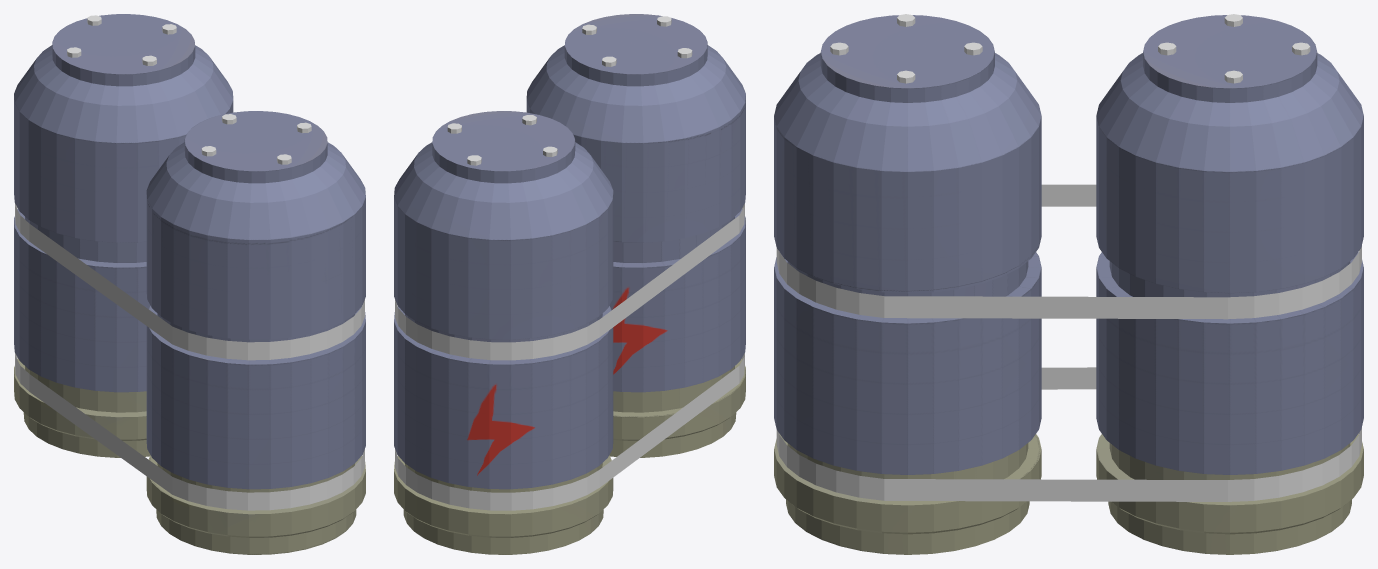
File: stromgeneratorGLTF.gltf
3 views of the same model, side by side, from view 1: azimuth 30°, elevation 25°; view 2: azimuth 150°, elevation 25°; view 3: azimuth 270°, elevation 25° (orthographic). The views are drawn at different scales.
Visible parts, largest first — view 1: Cylinder, Cylinder.001, band.001, band; view 2: Cylinder.001, Cylinder, band.001, band; view 3: Cylinder, Cylinder.001, band.001, band.
Boxes of the visible parts, x1=… form: Cylinder: x1=146, y1=111, x2=365, y2=554; Cylinder.001: x1=14, y1=14, x2=233, y2=457; band.001: x1=15, y1=353, x2=364, y2=510; band: x1=15, y1=203, x2=364, y2=360; Cylinder.001: x1=394, y1=111, x2=613, y2=554; Cylinder: x1=526, y1=14, x2=745, y2=457; band.001: x1=395, y1=353, x2=744, y2=510; band: x1=395, y1=203, x2=744, y2=360; Cylinder: x1=774, y1=15, x2=1041, y2=554; Cylinder.001: x1=1096, y1=15, x2=1363, y2=554; band.001: x1=776, y1=367, x2=1361, y2=501; band: x1=776, y1=184, x2=1361, y2=319.
Size of the model in its own units: 2.93 by 5.52 by 6.45.
2 materials, 1 textured.
